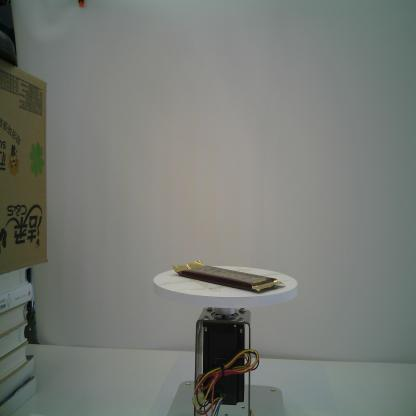Chocolate: (171, 258, 286, 293)
